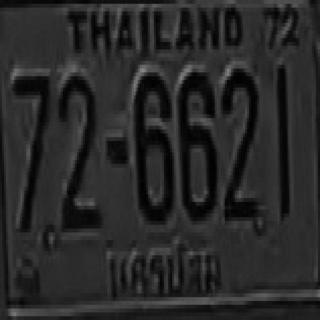N01: (275, 65, 288, 213)
N02: (57, 70, 97, 227), (60, 74, 98, 227), (223, 66, 257, 219)
N06: (134, 68, 172, 221), (176, 68, 215, 217)
N07: (12, 72, 49, 229)
P28: (104, 241, 224, 306)
